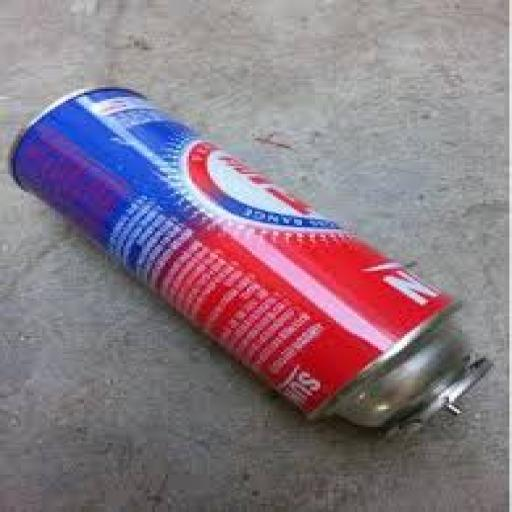metal: (9, 87, 493, 444)
